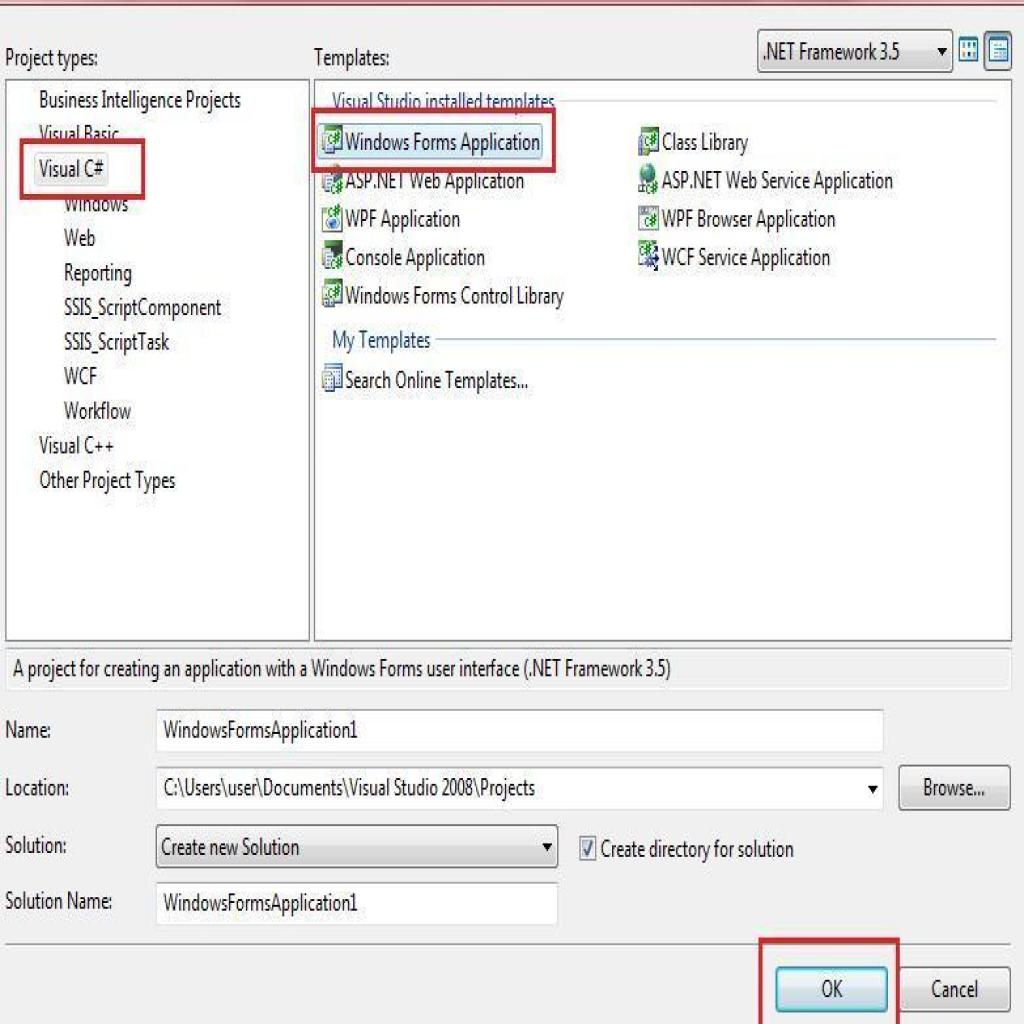button: (897, 962, 1016, 1016), (896, 762, 1012, 814), (773, 964, 888, 1012)
checkbox: (578, 834, 598, 862)
dropdown: (158, 766, 883, 812), (157, 824, 560, 870), (758, 29, 954, 71)
input: (156, 711, 884, 755), (154, 878, 560, 930)
label: (600, 836, 800, 864), (3, 884, 119, 920), (1, 826, 72, 867), (2, 770, 74, 805), (0, 709, 55, 745)
